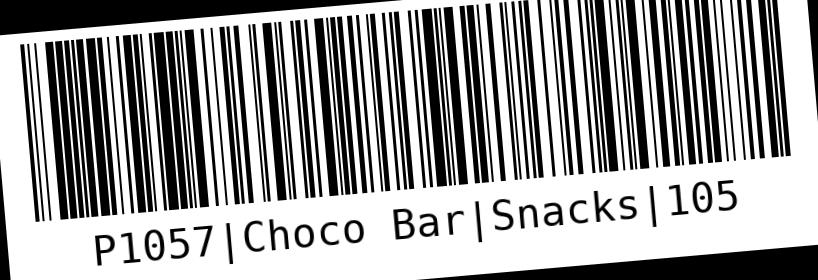milk: (12, 1, 817, 278)
